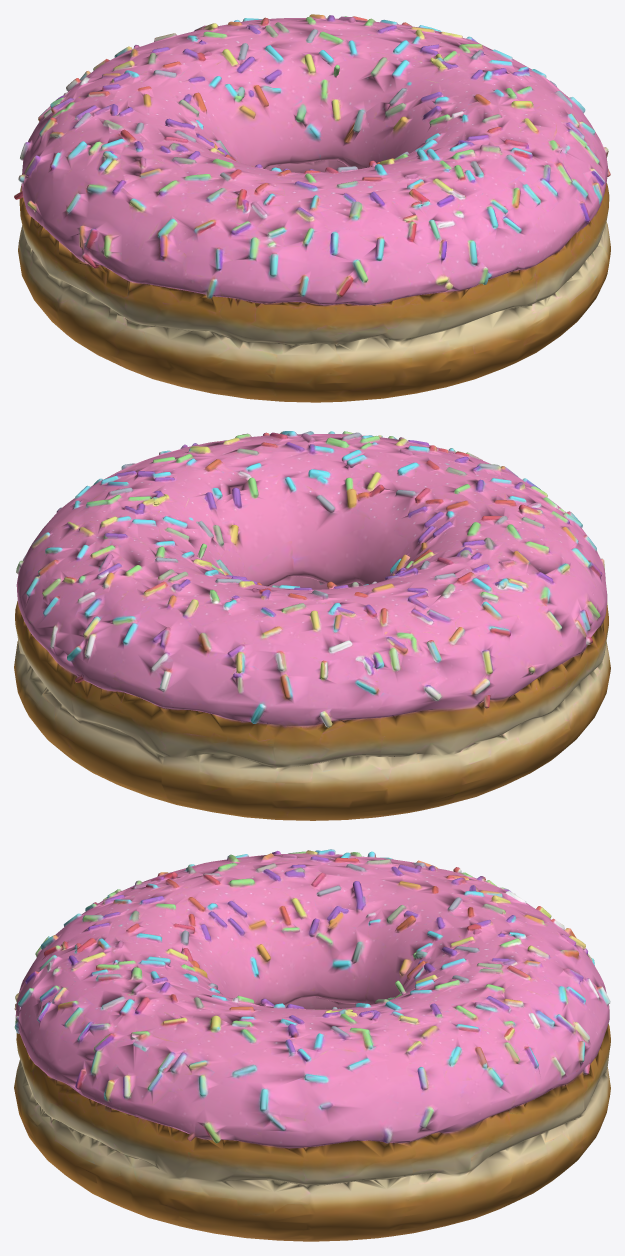
File: donut.glb
The picture shows the model from 3 angles, top to bottom: view 1: azimuth 30°, elevation 25°; view 2: azimuth 150°, elevation 25°; view 3: azimuth 270°, elevation 25°; orthographic projection.
Size of the model in its own units: 1.9 by 0.7101 by 1.9.
Materials: 1 (1 with a texture image).
